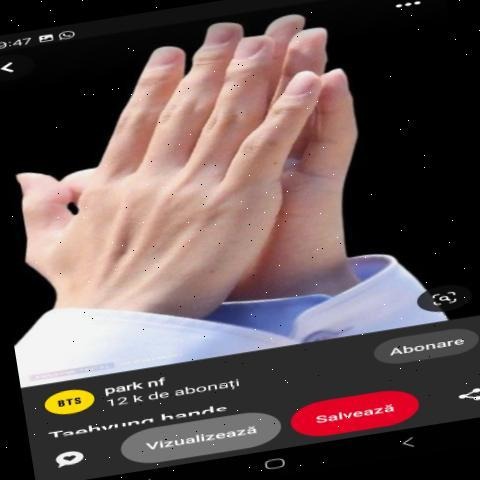Hands: (6, 23, 328, 318)
